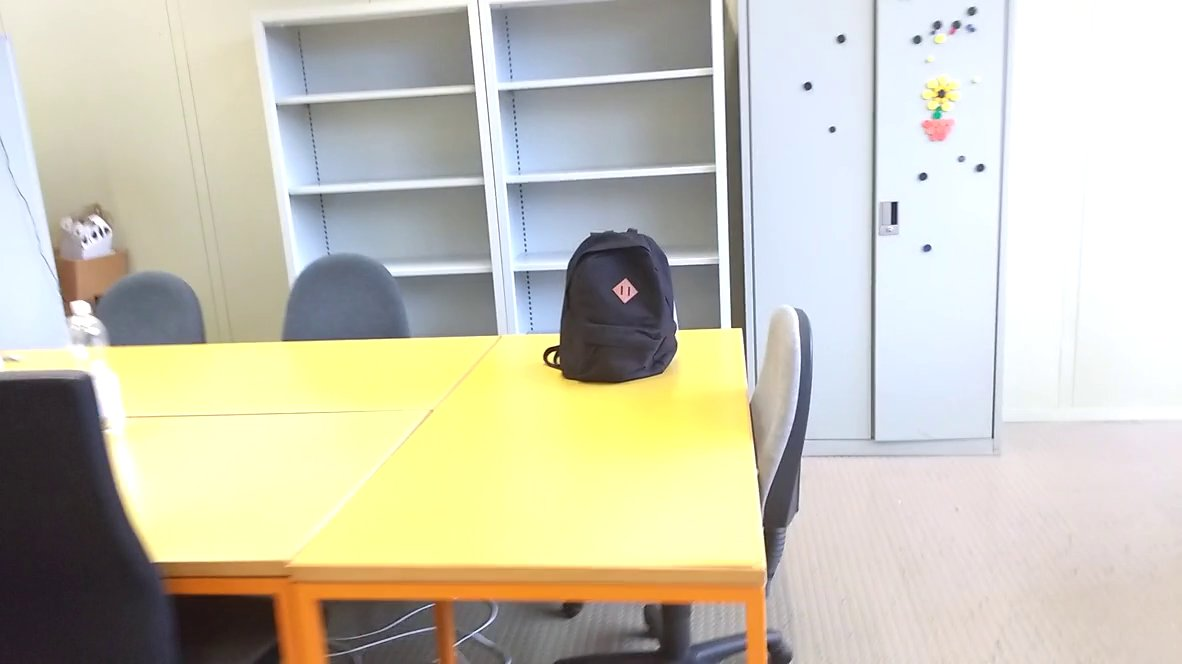bag: (539, 214, 681, 388)
chair: (626, 295, 857, 664), (260, 242, 429, 368), (79, 270, 216, 368)
